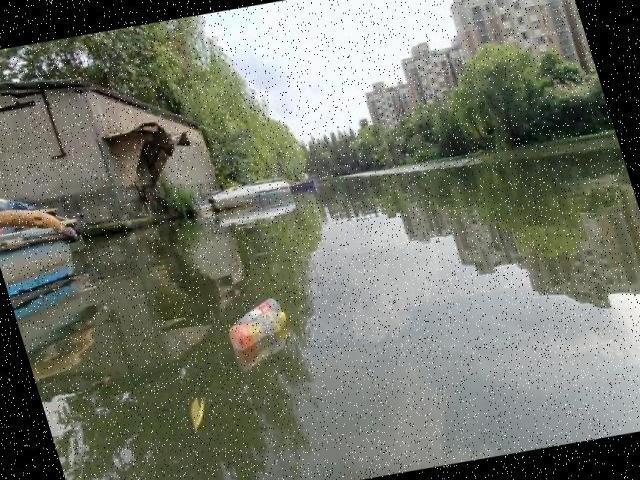Waste: (227, 294, 288, 349)
